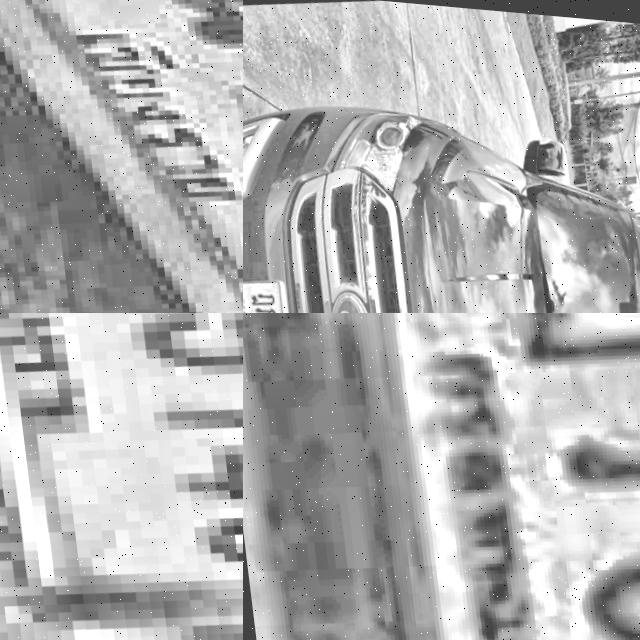license-plate: (295, 313, 640, 640), (0, 313, 243, 640), (0, 0, 243, 313), (243, 269, 296, 313)
